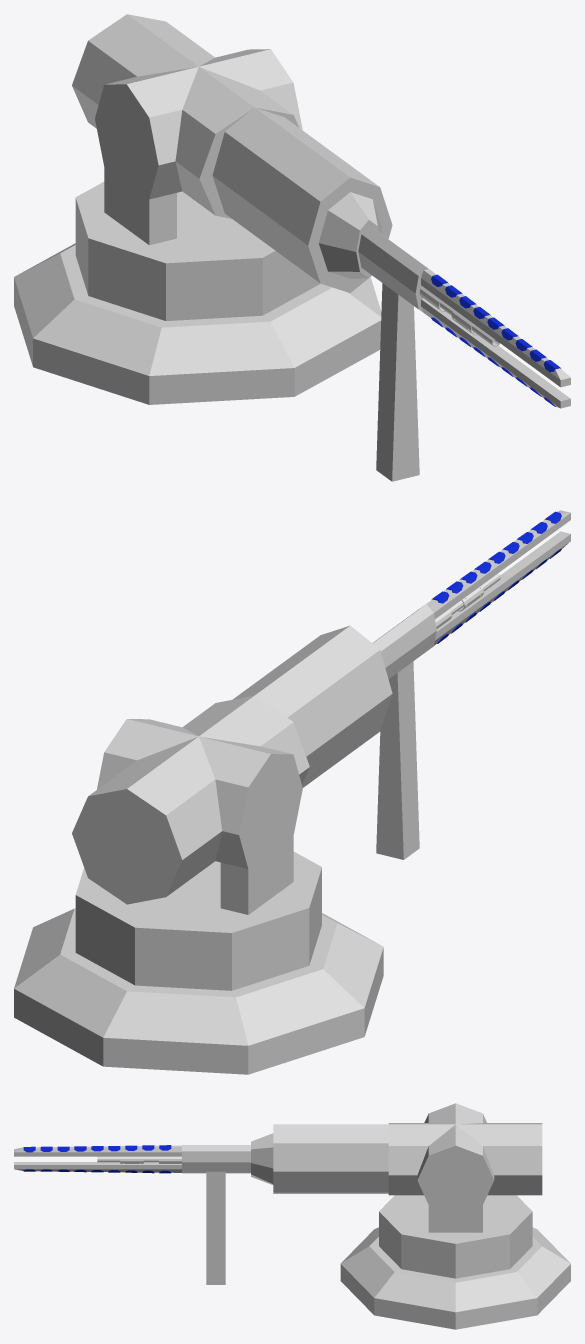
Rendered from RailGunglb.glb.
3 views of the same model, one above another, from view 1: azimuth 30°, elevation 25°; view 2: azimuth 150°, elevation 25°; view 3: azimuth 270°, elevation 25° (orthographic). The views are drawn at different scales.
Parts seen in each view (by area): view 1: BarrelBaseMK1, WholeBaseMK1, BaseRotatorMK1, RotatorMK1, GripMK1, ChargerTopMk1, ChargerBottmMk1; view 2: BarrelBaseMK1, WholeBaseMK1, BaseRotatorMK1, RotatorMK1, GripMK1, ChargerTopMk1, ChargerBottmMk1; view 3: BarrelBaseMK1, WholeBaseMK1, BaseRotatorMK1, RotatorMK1, GripMK1, ChargerTopMk1, ChargerBottmMk1.
Boxes of the visible parts, x1,y1,x2,y2 form: BarrelBaseMK1: (72, 14, 432, 312); WholeBaseMK1: (14, 243, 381, 404); BaseRotatorMK1: (75, 167, 320, 320); RotatorMK1: (95, 49, 302, 199); GripMK1: (376, 283, 419, 481); ChargerTopMk1: (421, 269, 570, 387); ChargerBottmMk1: (421, 298, 570, 408); BarrelBaseMK1: (72, 604, 436, 904); WholeBaseMK1: (14, 908, 383, 1074); BaseRotatorMK1: (75, 836, 321, 990); RotatorMK1: (97, 719, 302, 869); GripMK1: (376, 661, 419, 859); ChargerTopMk1: (425, 510, 570, 619); ChargerBottmMk1: (434, 531, 570, 645); BarrelBaseMK1: (182, 1123, 542, 1195); WholeBaseMK1: (340, 1227, 570, 1329); BaseRotatorMK1: (379, 1195, 532, 1278); RotatorMK1: (417, 1103, 494, 1214); GripMK1: (206, 1171, 225, 1284); ChargerTopMk1: (14, 1145, 181, 1156); ChargerBottmMk1: (14, 1162, 181, 1173).
Bounding box in the file's own units: 6 × 4.5 × 14.5.
